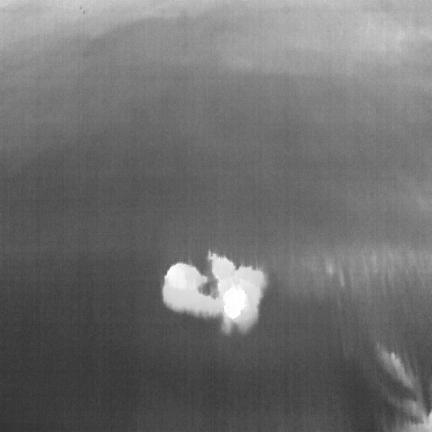flukeprints: (162, 253, 265, 332), (223, 285, 247, 319)
